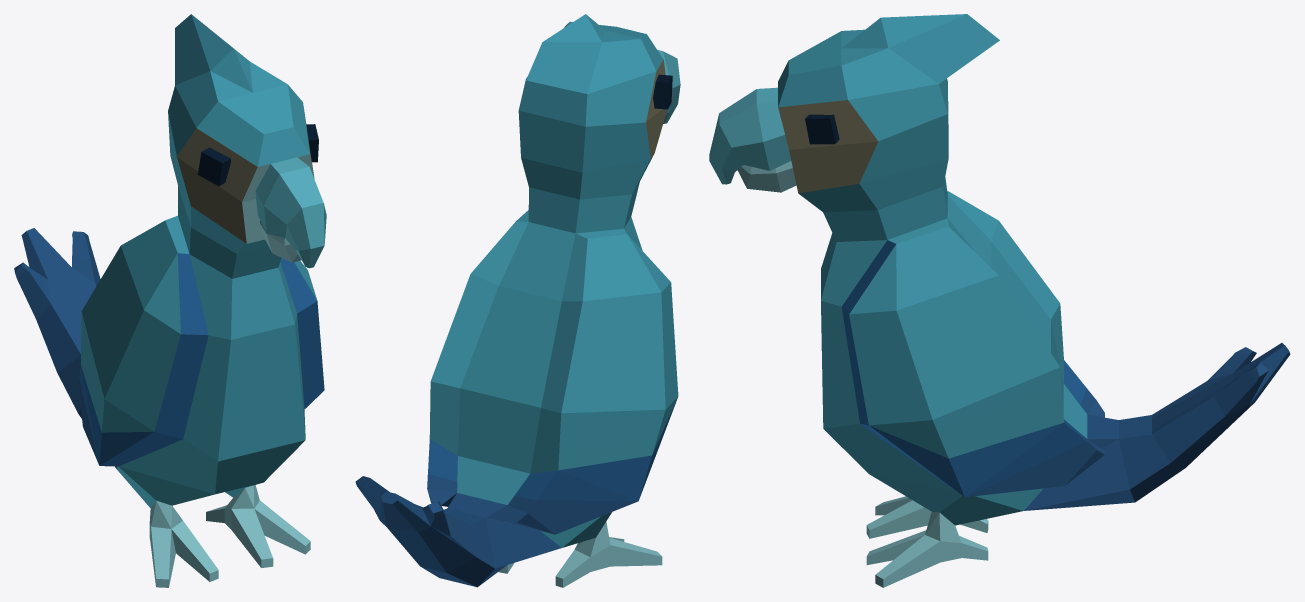
File: SM_Prop_Parrot_01.glb
3 views of the same model, side by side, from view 1: azimuth 30°, elevation 25°; view 2: azimuth 150°, elevation 25°; view 3: azimuth 270°, elevation 25° (orthographic). The views are drawn at different scales.
Parts seen in each view (by area): view 1: SM_Prop_Parrot_01; view 2: SM_Prop_Parrot_01; view 3: SM_Prop_Parrot_01.
Part boxes in pixels (box(x1,y1,x2,y2)): SM_Prop_Parrot_01: box(14, 14, 326, 587); SM_Prop_Parrot_01: box(355, 14, 680, 587); SM_Prop_Parrot_01: box(709, 14, 1290, 587).
Bounding box in the file's own units: 0.00117 × 0.00282 × 0.00278.
